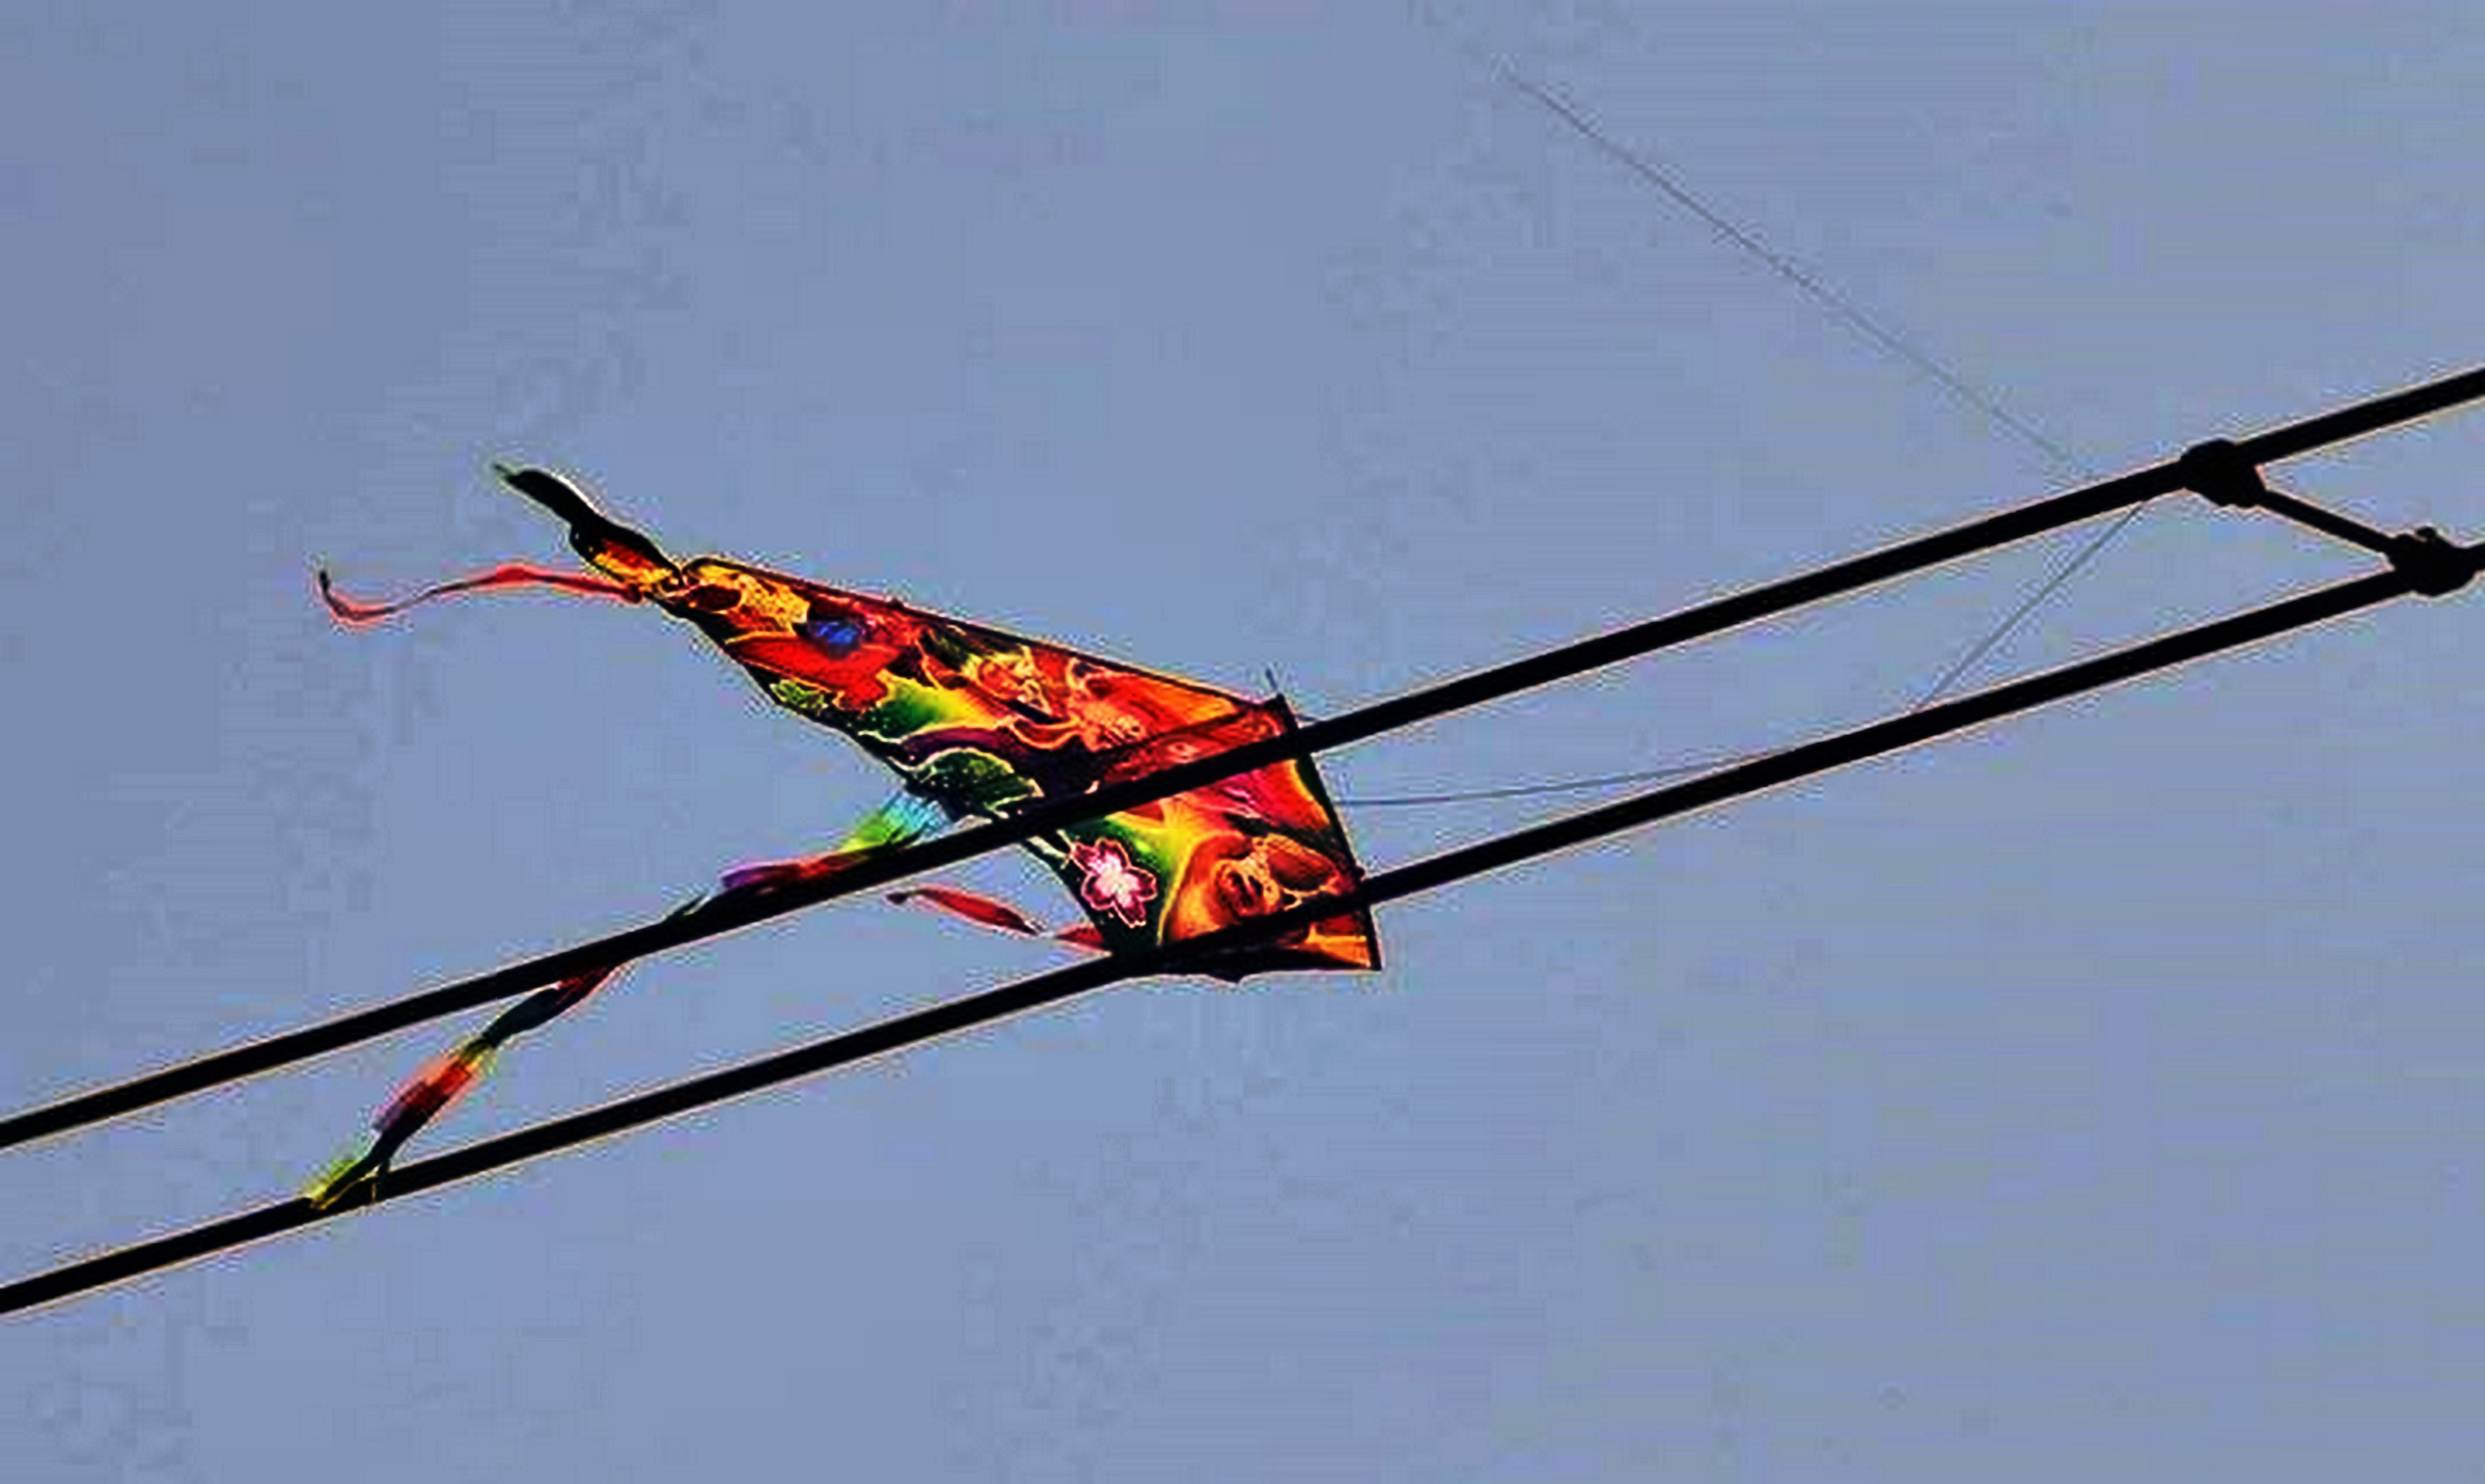wire foreign body: (505, 458, 1443, 1042)
